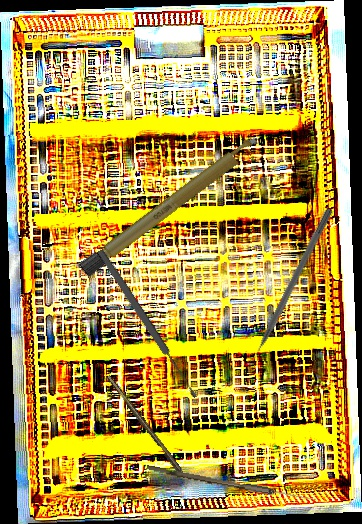Hook Surgical: (105, 374, 195, 489)
Pusher: (243, 206, 334, 372)
Scalpel Handle: (77, 131, 266, 279)
Surgical Spoon: (95, 247, 200, 401), (145, 465, 317, 503)
